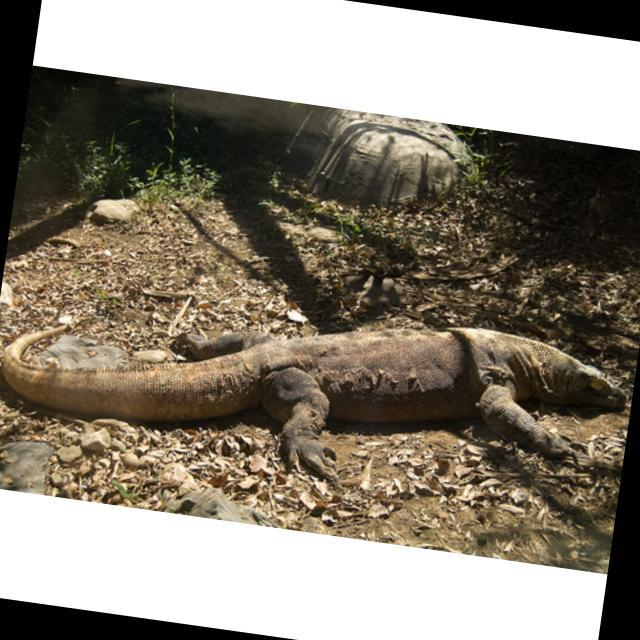KomodoDragon: (0, 258, 633, 524)
